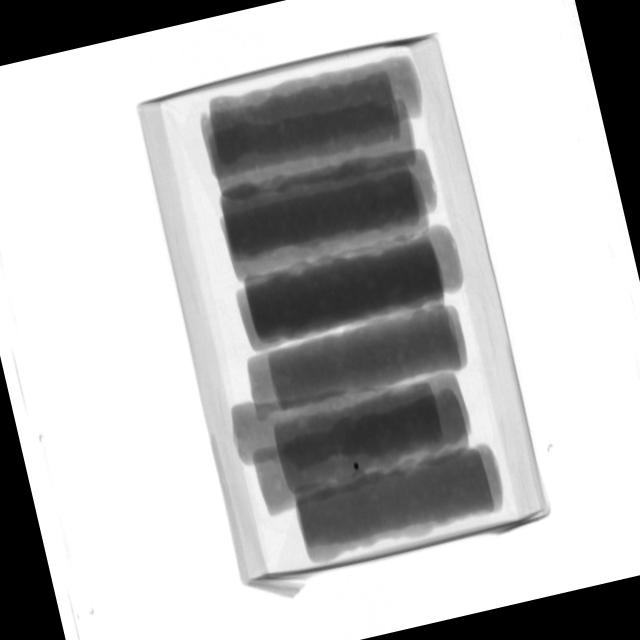ym: (353, 462, 361, 470)
